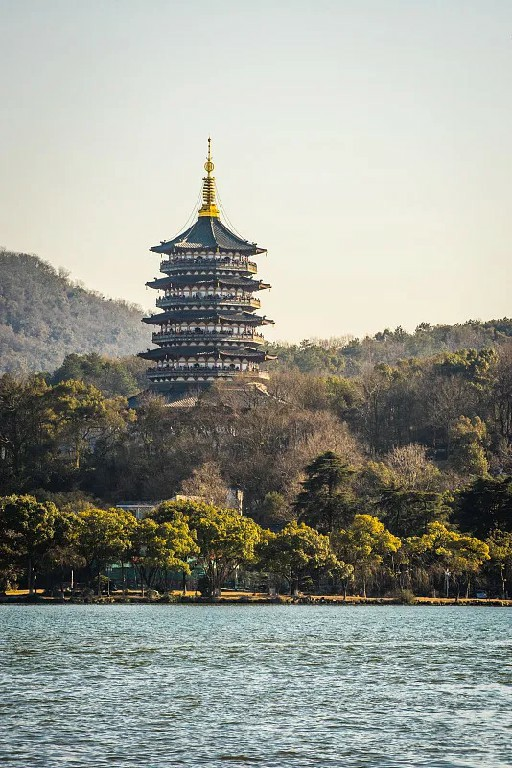Leifeng: (125, 134, 278, 443)
